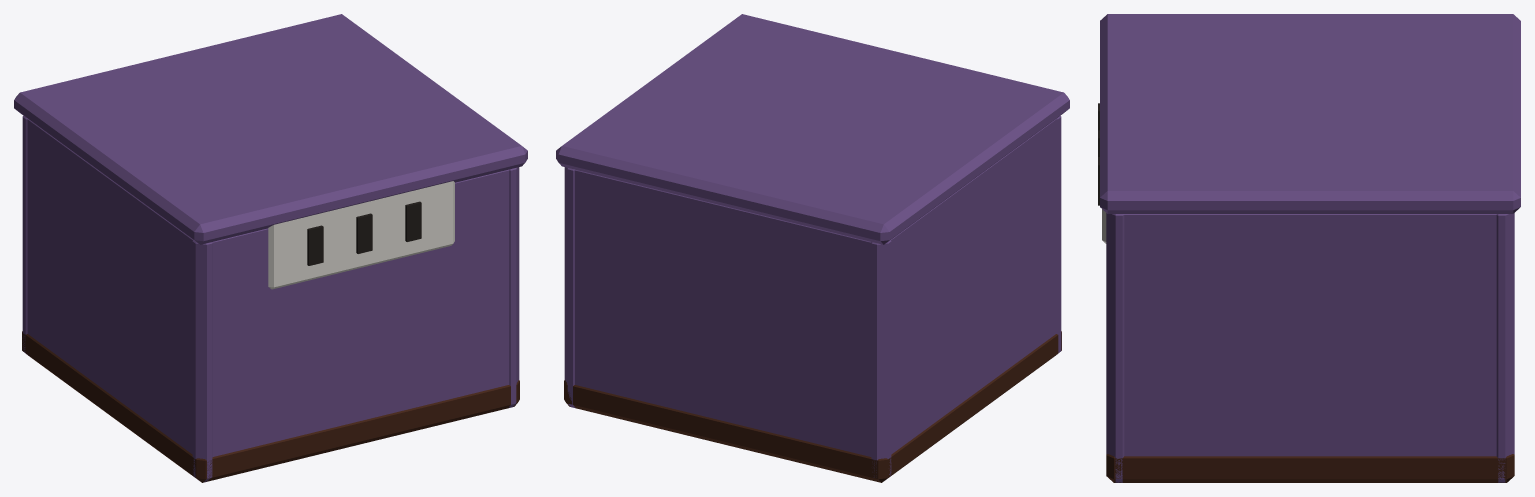
The model's file is lost_found.glb.
3 renders of one model, left to right at view 1: azimuth 30°, elevation 25°; view 2: azimuth 150°, elevation 25°; view 3: azimuth 270°, elevation 25°, orthographic. The views are drawn at different scales.
Parts seen in each view (by area): view 1: Body_mesh, Lid_mesh; view 2: Body_mesh, Lid_mesh; view 3: Body_mesh, Lid_mesh.
Part boxes in pixels (x1,y1,x2,y2): Body_mesh: [22, 116, 519, 482]; Lid_mesh: [14, 14, 527, 244]; Body_mesh: [564, 116, 1061, 482]; Lid_mesh: [556, 14, 1069, 244]; Body_mesh: [1098, 103, 1514, 482]; Lid_mesh: [1100, 14, 1520, 213].
Bounding box in the file's own units: 0.68 × 0.51 × 0.663.
